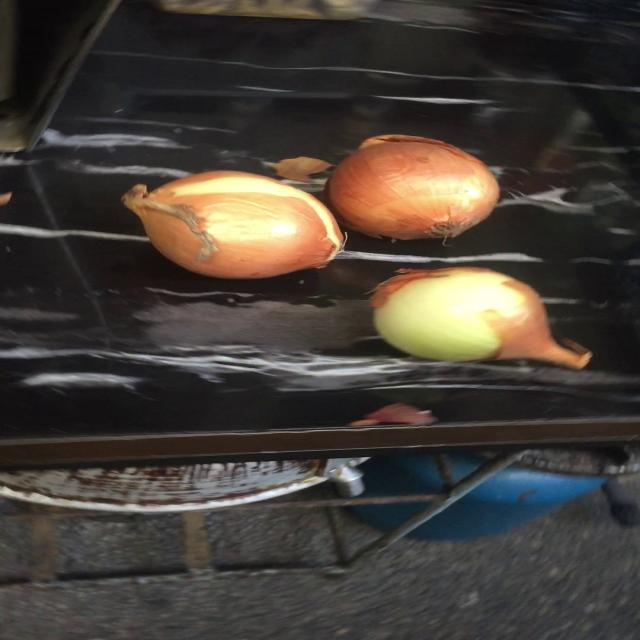Onion: (120, 171, 343, 278), (370, 267, 592, 369), (325, 134, 500, 240)
